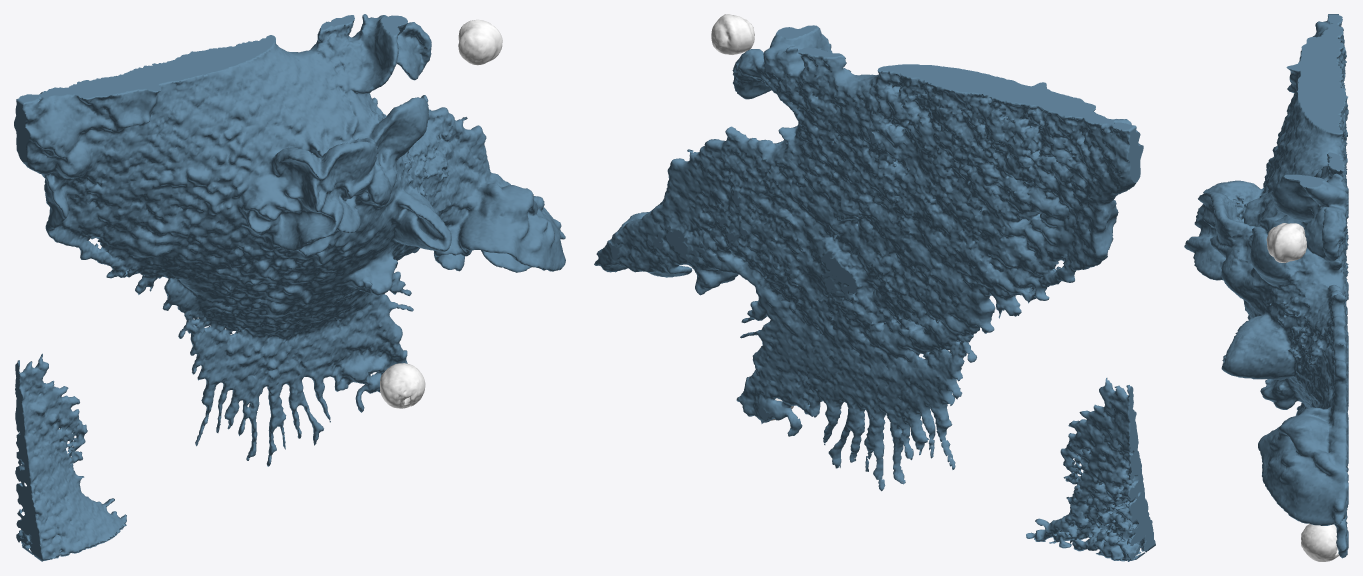
The picture shows the model from 3 angles, left to right: view 1: azimuth 30°, elevation 25°; view 2: azimuth 150°, elevation 25°; view 3: azimuth 270°, elevation 25°; orthographic projection. The views are drawn at different scales.
Parts seen in each view (by area): view 1: surface (×2); view 2: surface (×2); view 3: surface (×2).
Boxes of the visible parts, x1,y1,x2,y2 form: surface (×2): [14, 14, 565, 561]; surface (×2): [594, 14, 1155, 561]; surface (×2): [1184, 14, 1348, 561].
Size of the model in its own units: 564 by 436 by 155.
